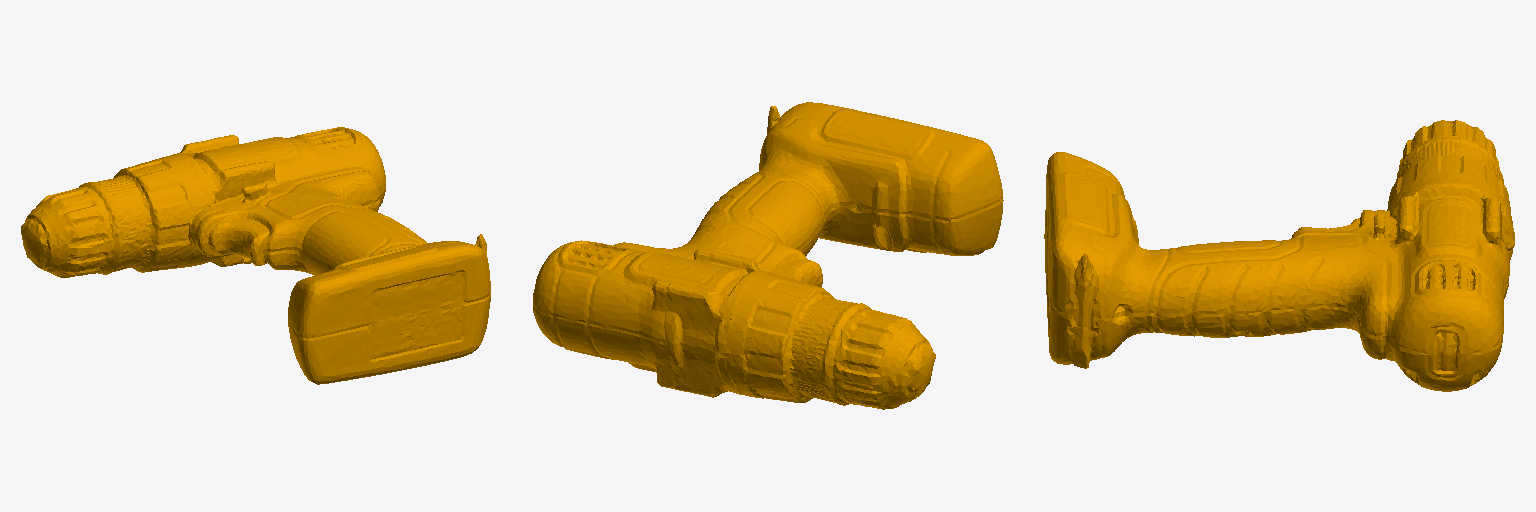
The robot description file, URDF, robot "035_power_drill":
<?xml version="1.0" ?>
<robot name="035_power_drill">
  <link name="base_link">
    <inertial>
      <mass value="0.12915656112526575"/>
      <origin rpy="-2.09157 -1.53282  0.72491" xyz="-0.03755  0.01424  0.0241"/>
      <inertia ixx="0.0005557603167105662" ixy="-1.9522371819045355e-20" ixz="-9.468547038589105e-21" iyy="0.0003645403283012625" iyz="-8.383920969816996e-21" izz="0.00024453614387400695"/>
    </inertial>
    <collision name="035_power_drill__collision">
      <origin rpy="0 0 0" xyz="0 0 0"/>
      <geometry>
        <mesh filename="./035_power_drill_250_collision.stl" scale="1.0 1.0 1.0"/>
      </geometry>
    </collision>
    <visual name="035_power_drill__visual">
      <origin rpy="0 0 0" xyz="0 0 0"/>
      <geometry>
        <mesh filename="./textured.obj" scale="1.0 1.0 1.0"/>
      </geometry>
    </visual>
  </link>
</robot>

--- Facts derived from the render (not from the file) ---
Views: 3 orthographic renders of the robot side by side, from view 1: azimuth 30°, elevation 25°; view 2: azimuth 150°, elevation 25°; view 3: azimuth 270°, elevation 25°.
Model 035_power_drill with 1 links and 0 joints (none), rooted at base_link, posed all joints at 0.
Links seen in each view (by area): view 1: base_link; view 2: base_link; view 3: base_link.
Link boxes in pixels (x1,y1,x2,y2): base_link: [21, 127, 490, 384]; base_link: [533, 102, 1003, 409]; base_link: [1044, 120, 1514, 391].
Size in the robot's own frame: 0.1842 by 0.1875 by 0.0573 metres.
Meshes: 1 distinct files referenced, 1 mesh visuals loaded (1 OBJ).